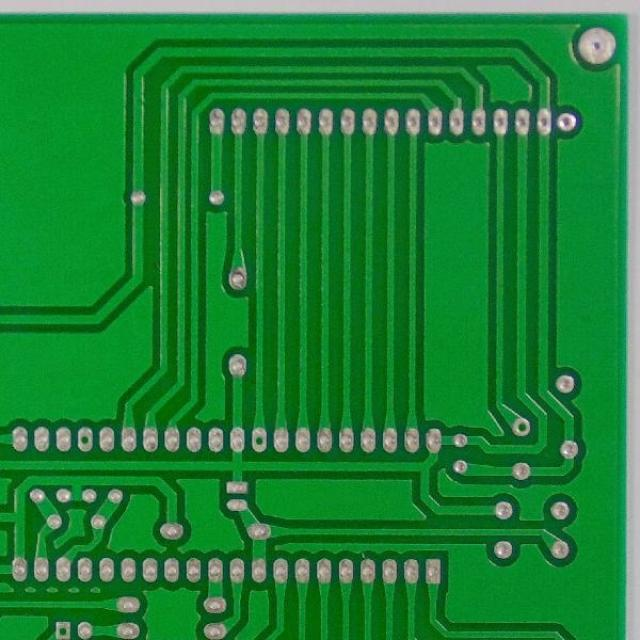Missing_Hole: (76, 426, 95, 453), (509, 415, 532, 437), (250, 426, 268, 453), (52, 619, 72, 640)
